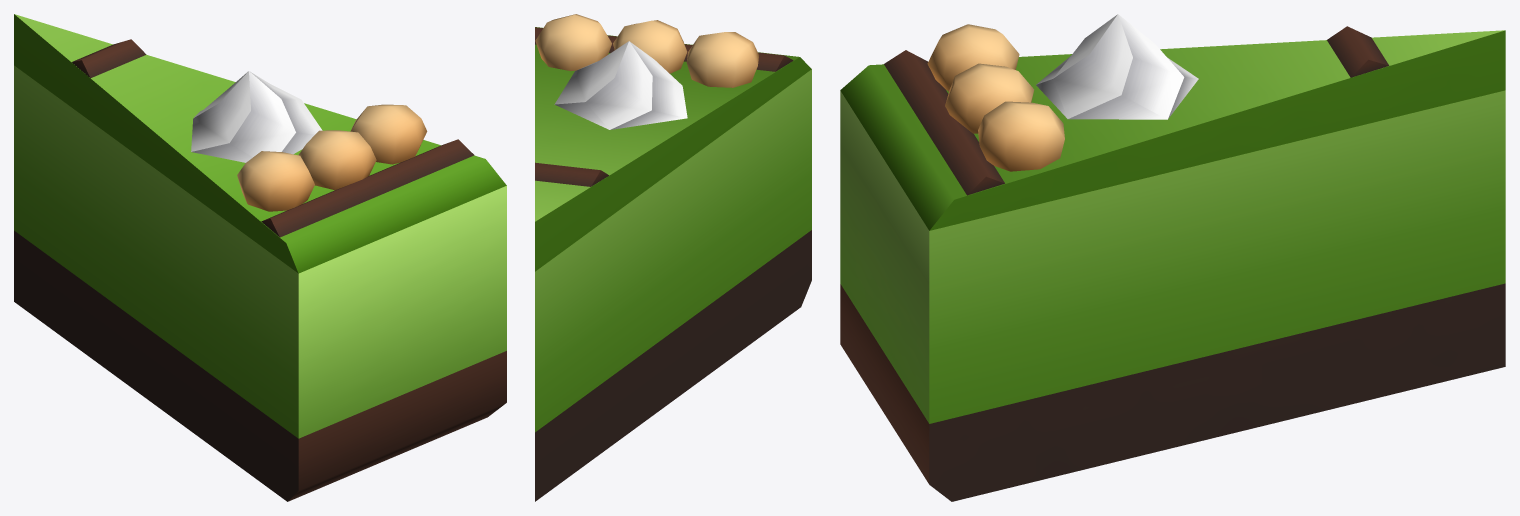
File: m_MatchaCake01_Slice01.fbx
3 views of the same model, side by side, from view 1: azimuth 30°, elevation 25°; view 2: azimuth 150°, elevation 25°; view 3: azimuth 270°, elevation 25° (orthographic). The views are drawn at different scales.
Visible parts, largest first — view 1: m_MatchaCake01_Slice01; view 2: m_MatchaCake01_Slice01; view 3: m_MatchaCake01_Slice01.
Part boxes in pixels (x1,y1,x2,y2): m_MatchaCake01_Slice01: (14,14,506,501); m_MatchaCake01_Slice01: (535,14,811,501); m_MatchaCake01_Slice01: (840,14,1505,501).
Bounding box in the file's own units: 7 × 9.1 × 14.
